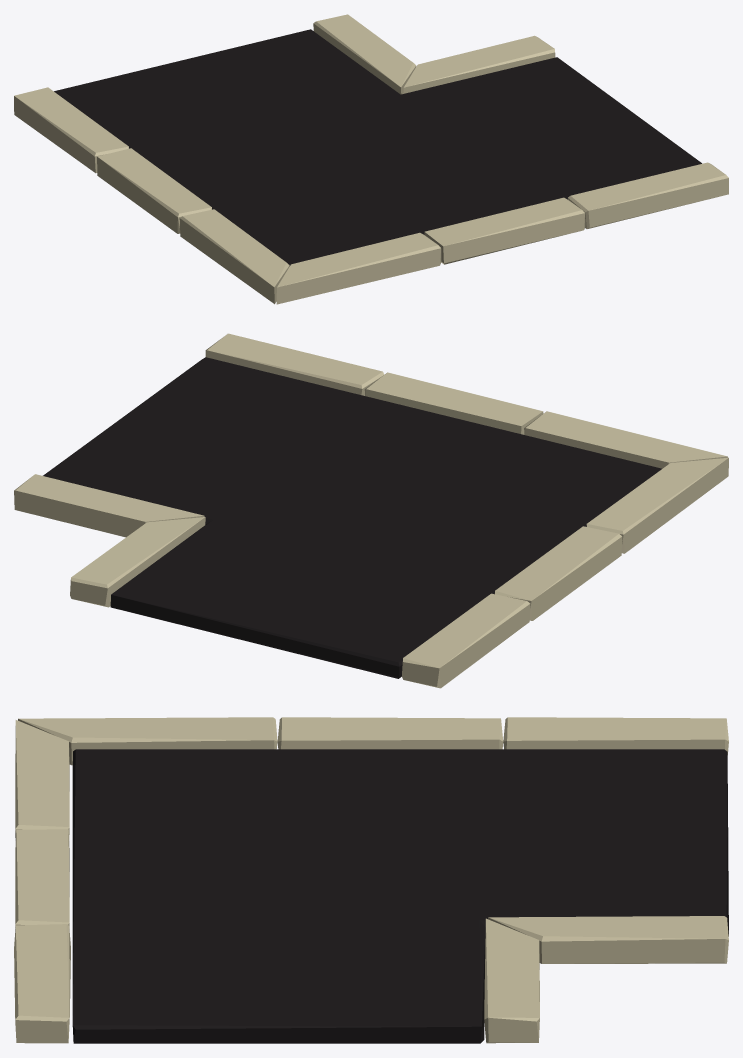
File: roadcorner.fbx
The picture shows the model from 3 angles, top to bottom: view 1: azimuth 30°, elevation 25°; view 2: azimuth 150°, elevation 25°; view 3: azimuth 270°, elevation 25°; orthographic projection. The views are drawn at different scales.
Parts seen in each view (by area): view 1: yolköşe2; view 2: yolköşe2; view 3: yolköşe2.
Boxes of the visible parts, <box> form: yolköşe2: <box>14,14,728,304</box>; yolköşe2: <box>14,333,728,688</box>; yolköşe2: <box>14,717,728,1043</box>.
Size of the model in its own units: 158 by 6.97 by 158.
